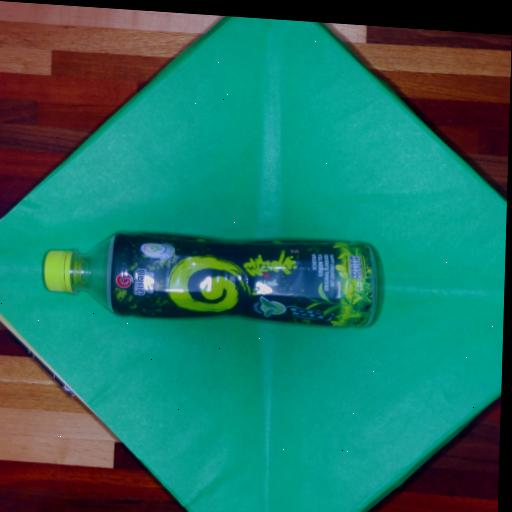bottle: (29, 204, 391, 348)
